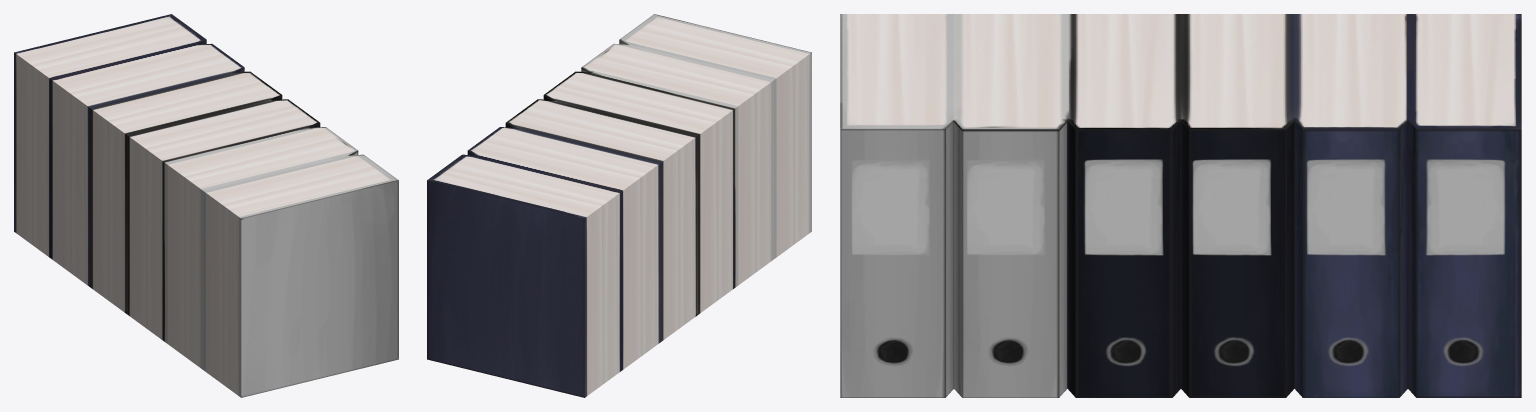
The model's file is Office_Book1.fbx.
The picture shows the model from 3 angles, left to right: view 1: azimuth 30°, elevation 25°; view 2: azimuth 150°, elevation 25°; view 3: azimuth 270°, elevation 25°; orthographic projection. The views are drawn at different scales.
Parts seen in each view (by area): view 1: Box200; view 2: Box200; view 3: Box200.
Part boxes in pixels (bbox=[...]): Box200: bbox=[14, 14, 398, 397]; Box200: bbox=[427, 14, 811, 397]; Box200: bbox=[840, 14, 1521, 397].
Size of the model in its own units: 14.36 by 15.61 by 35.85.
